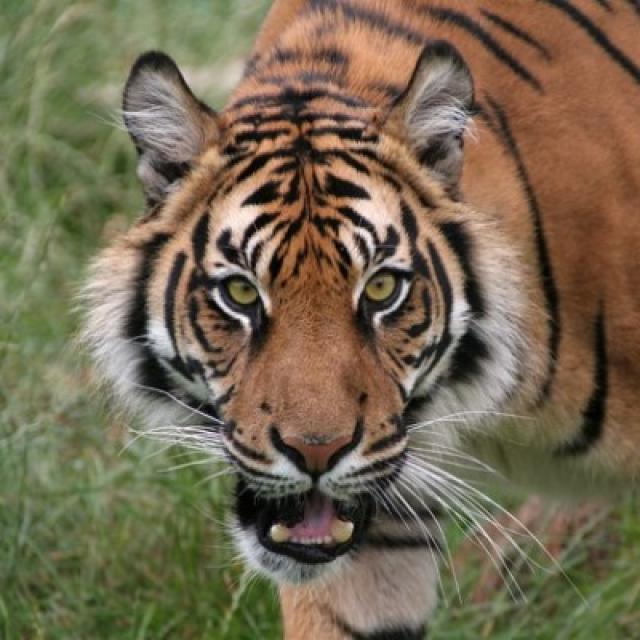Tiger: (83, 0, 638, 638)
